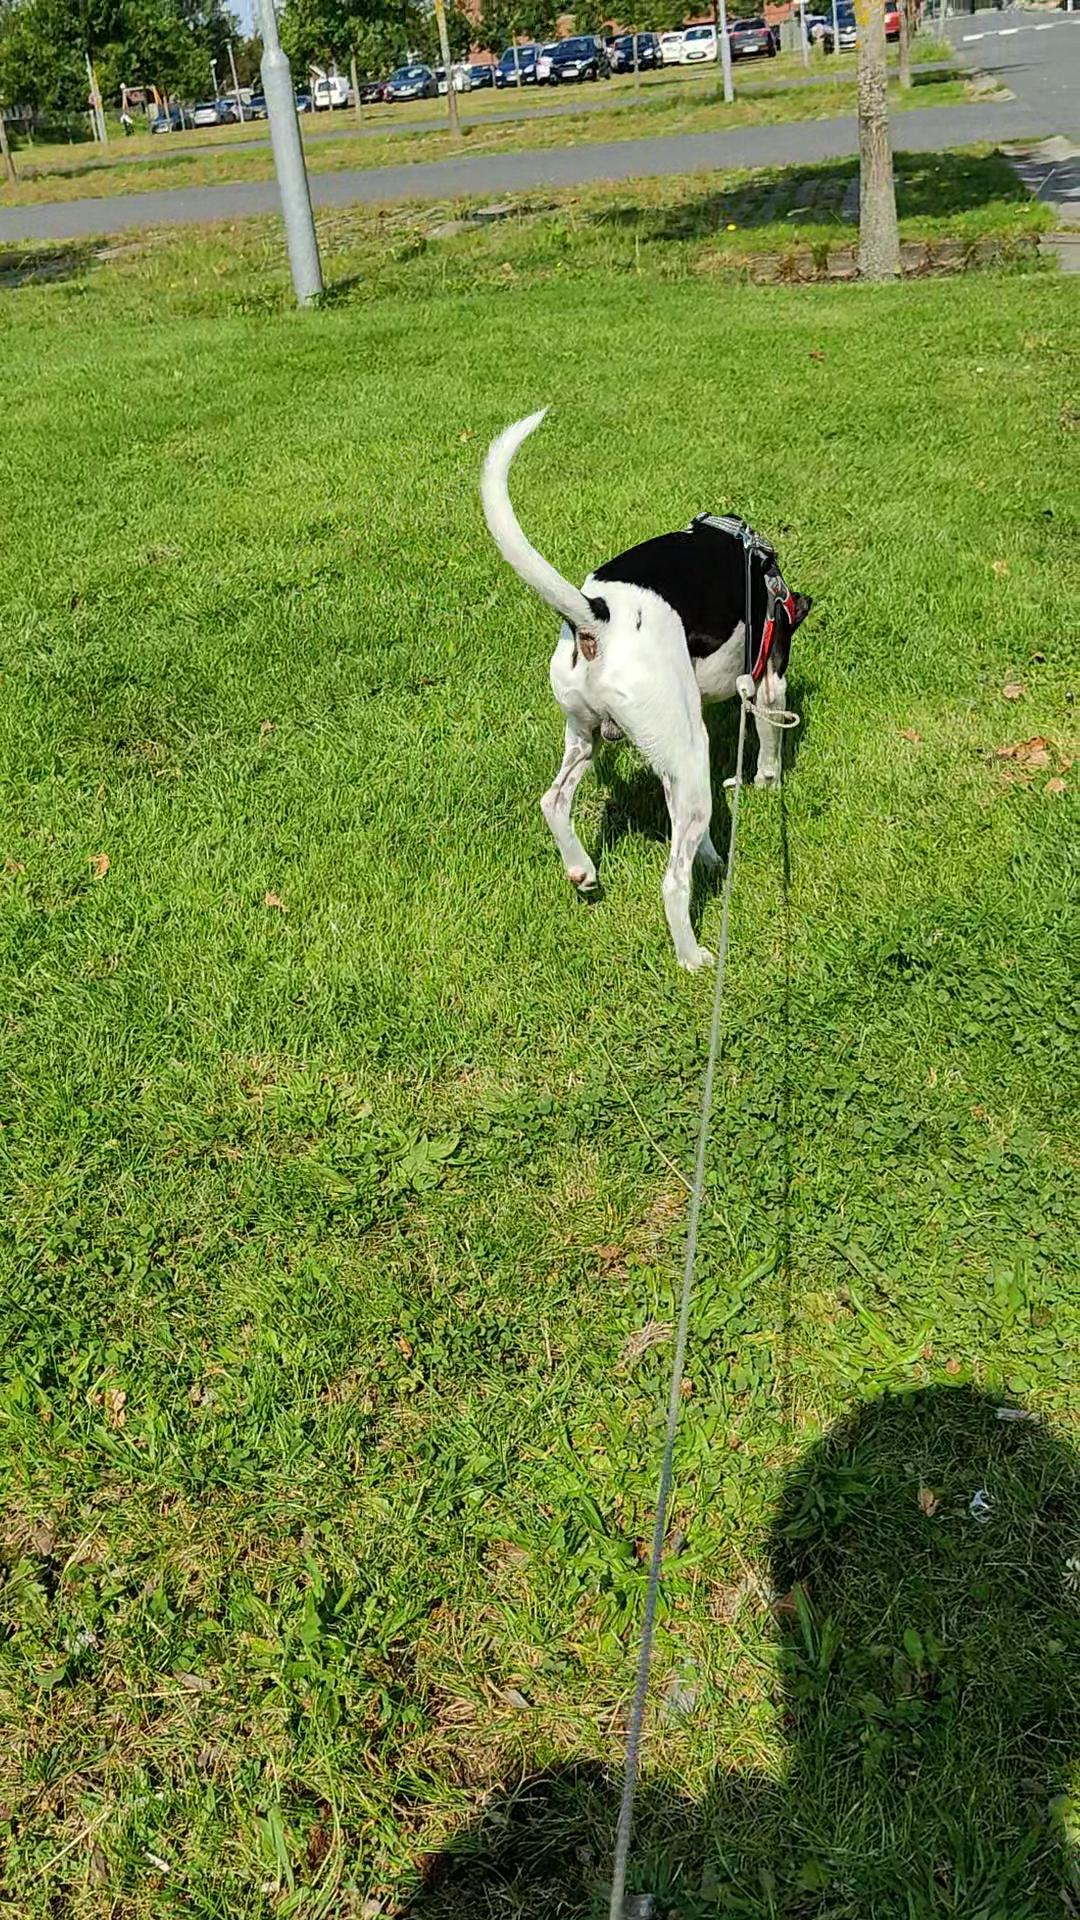Dog: (454, 382, 848, 982)
